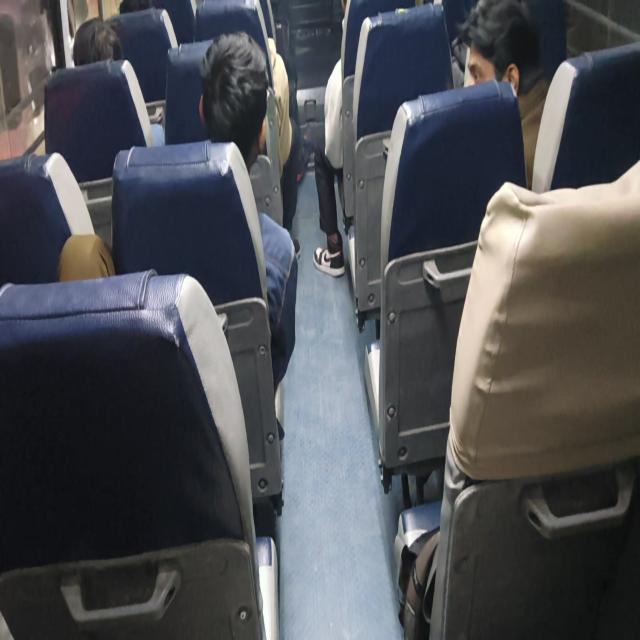person: (449, 12, 555, 142), (204, 70, 275, 148), (77, 18, 139, 80)
